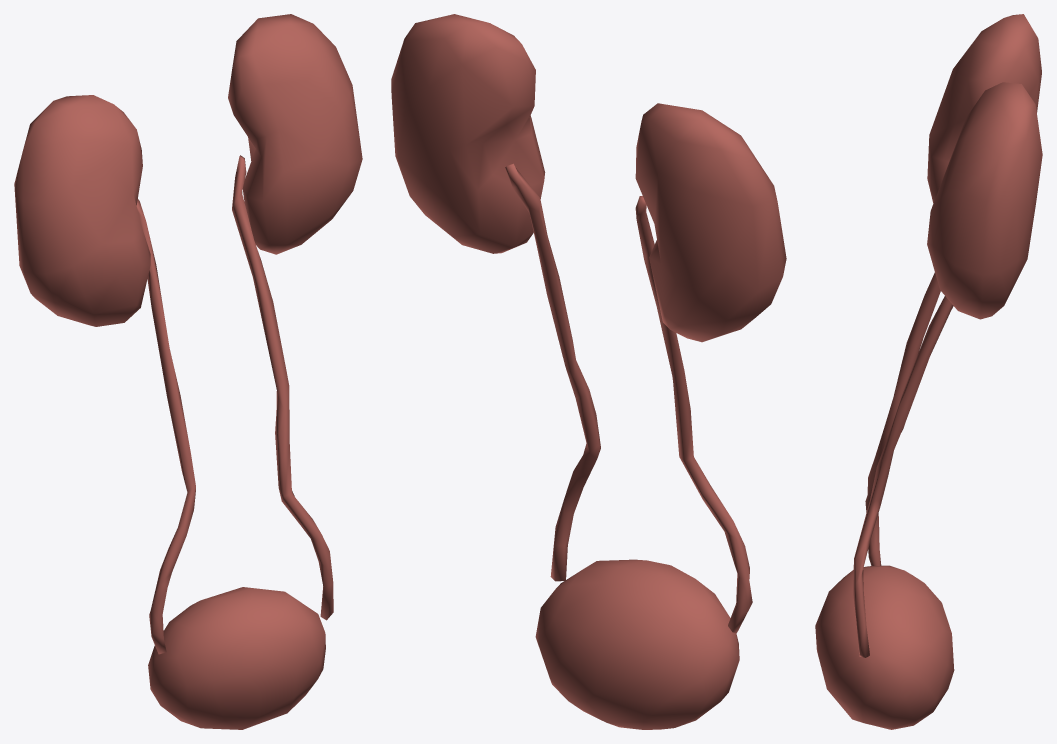
File: pediatric_child_10y_male.urinary.LOD2.glb
The picture shows the model from 3 angles, left to right: view 1: azimuth 30°, elevation 25°; view 2: azimuth 150°, elevation 25°; view 3: azimuth 270°, elevation 25°; orthographic projection. The views are drawn at different scales.
Visible parts, largest first — view 1: PEDIATRIC.CHILD_10Y.MALE.URINARY.KIDNEY_CORTEX.R, PEDIATRIC.CHILD_10Y.MALE.URINARY.KIDNEY_CORTEX.L, PEDIATRIC.CHILD_10Y.MALE.URINARY.URINARY_BLADDER_WALL, PEDIATRIC.CHILD_10Y.MALE.URINARY.URETER.L, PEDIATRIC.CHILD_10Y.MALE.URINARY.URETER.R; view 2: PEDIATRIC.CHILD_10Y.MALE.URINARY.KIDNEY_CORTEX.L, PEDIATRIC.CHILD_10Y.MALE.URINARY.URINARY_BLADDER_WALL, PEDIATRIC.CHILD_10Y.MALE.URINARY.KIDNEY_CORTEX.R, PEDIATRIC.CHILD_10Y.MALE.URINARY.URETER.L, PEDIATRIC.CHILD_10Y.MALE.URINARY.URETER.R; view 3: PEDIATRIC.CHILD_10Y.MALE.URINARY.KIDNEY_CORTEX.L, PEDIATRIC.CHILD_10Y.MALE.URINARY.URINARY_BLADDER_WALL, PEDIATRIC.CHILD_10Y.MALE.URINARY.KIDNEY_CORTEX.R, PEDIATRIC.CHILD_10Y.MALE.URINARY.URETER.L, PEDIATRIC.CHILD_10Y.MALE.URINARY.URETER.R.
Part boxes in pixels (left/top/right/bottom): PEDIATRIC.CHILD_10Y.MALE.URINARY.KIDNEY_CORTEX.R: left=14, top=95, right=150, bottom=326; PEDIATRIC.CHILD_10Y.MALE.URINARY.KIDNEY_CORTEX.L: left=228, top=14, right=362, bottom=254; PEDIATRIC.CHILD_10Y.MALE.URINARY.URINARY_BLADDER_WALL: left=148, top=587, right=325, bottom=729; PEDIATRIC.CHILD_10Y.MALE.URINARY.URETER.L: left=232, top=155, right=333, bottom=620; PEDIATRIC.CHILD_10Y.MALE.URINARY.URETER.R: left=136, top=199, right=195, bottom=654; PEDIATRIC.CHILD_10Y.MALE.URINARY.KIDNEY_CORTEX.L: left=391, top=14, right=545, bottom=253; PEDIATRIC.CHILD_10Y.MALE.URINARY.URINARY_BLADDER_WALL: left=535, top=559, right=739, bottom=729; PEDIATRIC.CHILD_10Y.MALE.URINARY.KIDNEY_CORTEX.R: left=635, top=103, right=786, bottom=342; PEDIATRIC.CHILD_10Y.MALE.URINARY.URETER.L: left=505, top=163, right=600, bottom=581; PEDIATRIC.CHILD_10Y.MALE.URINARY.URETER.R: left=635, top=196, right=752, bottom=633; PEDIATRIC.CHILD_10Y.MALE.URINARY.KIDNEY_CORTEX.L: left=927, top=82, right=1042, bottom=319; PEDIATRIC.CHILD_10Y.MALE.URINARY.URINARY_BLADDER_WALL: left=815, top=565, right=954, bottom=729; PEDIATRIC.CHILD_10Y.MALE.URINARY.KIDNEY_CORTEX.R: left=927, top=14, right=1041, bottom=202; PEDIATRIC.CHILD_10Y.MALE.URINARY.URETER.L: left=853, top=296, right=953, bottom=657; PEDIATRIC.CHILD_10Y.MALE.URINARY.URETER.R: left=865, top=272, right=940, bottom=565.
Size of the model in its own units: 0.1563 by 0.285 by 0.0867.
